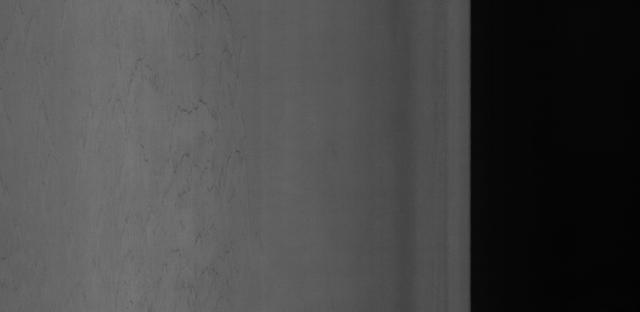silk_spot: (110, 55, 250, 240)
